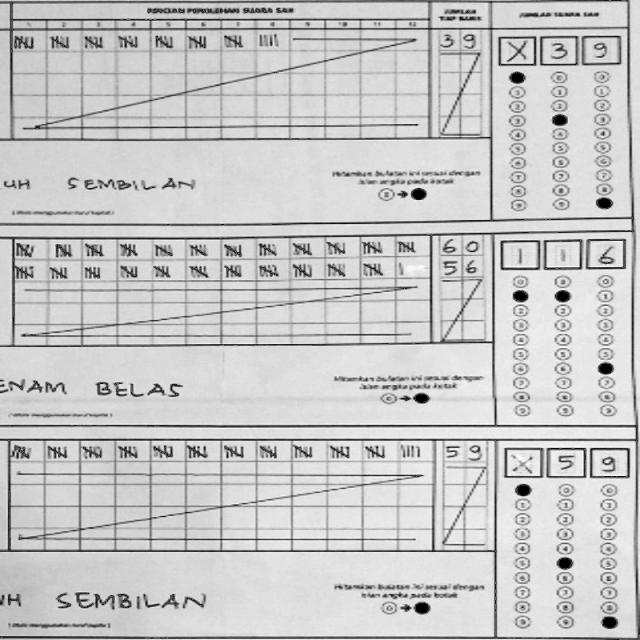Suara: (496, 436, 631, 479), (496, 232, 631, 274), (496, 29, 622, 62)
